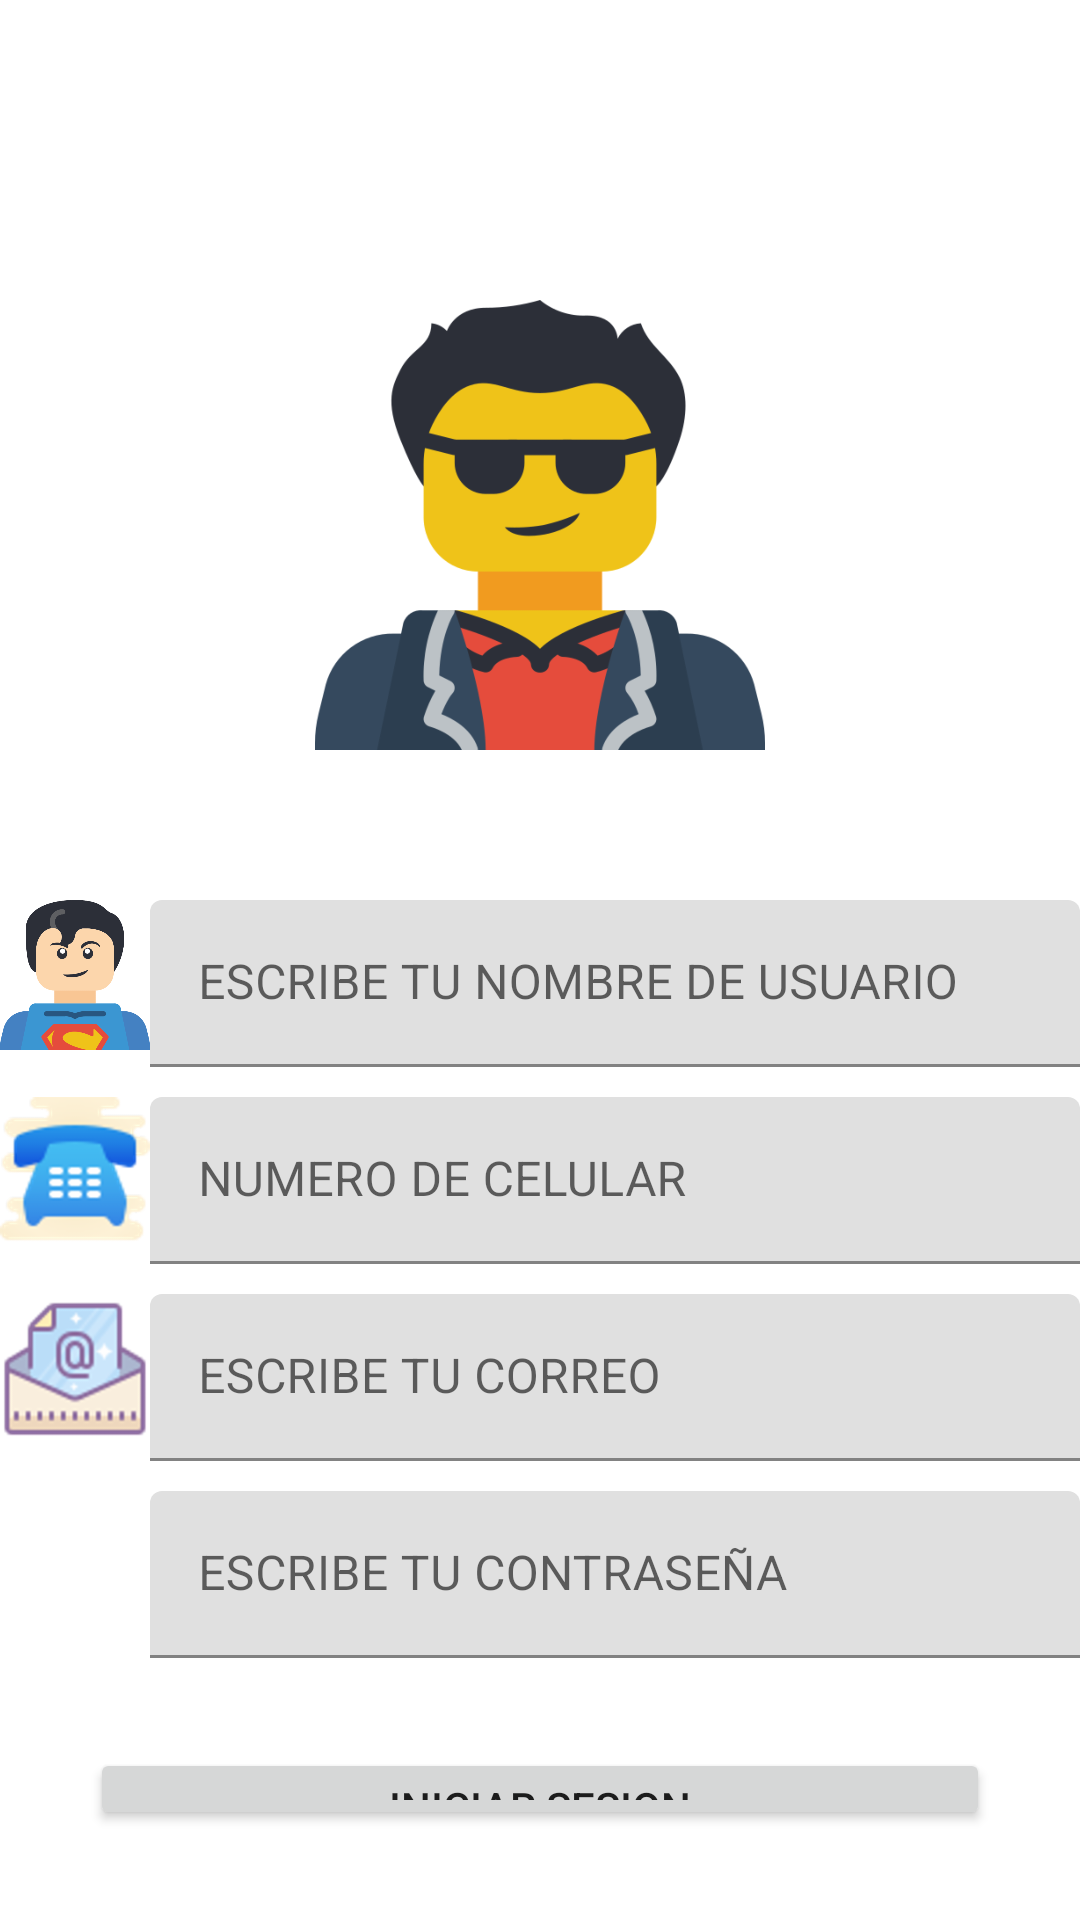

Icons on this 1080px x 1920px Android screen, each with its box as (x1, y1, x2, y2):
email: (4, 1303, 146, 1435)
telefono: (0, 1097, 150, 1240)
